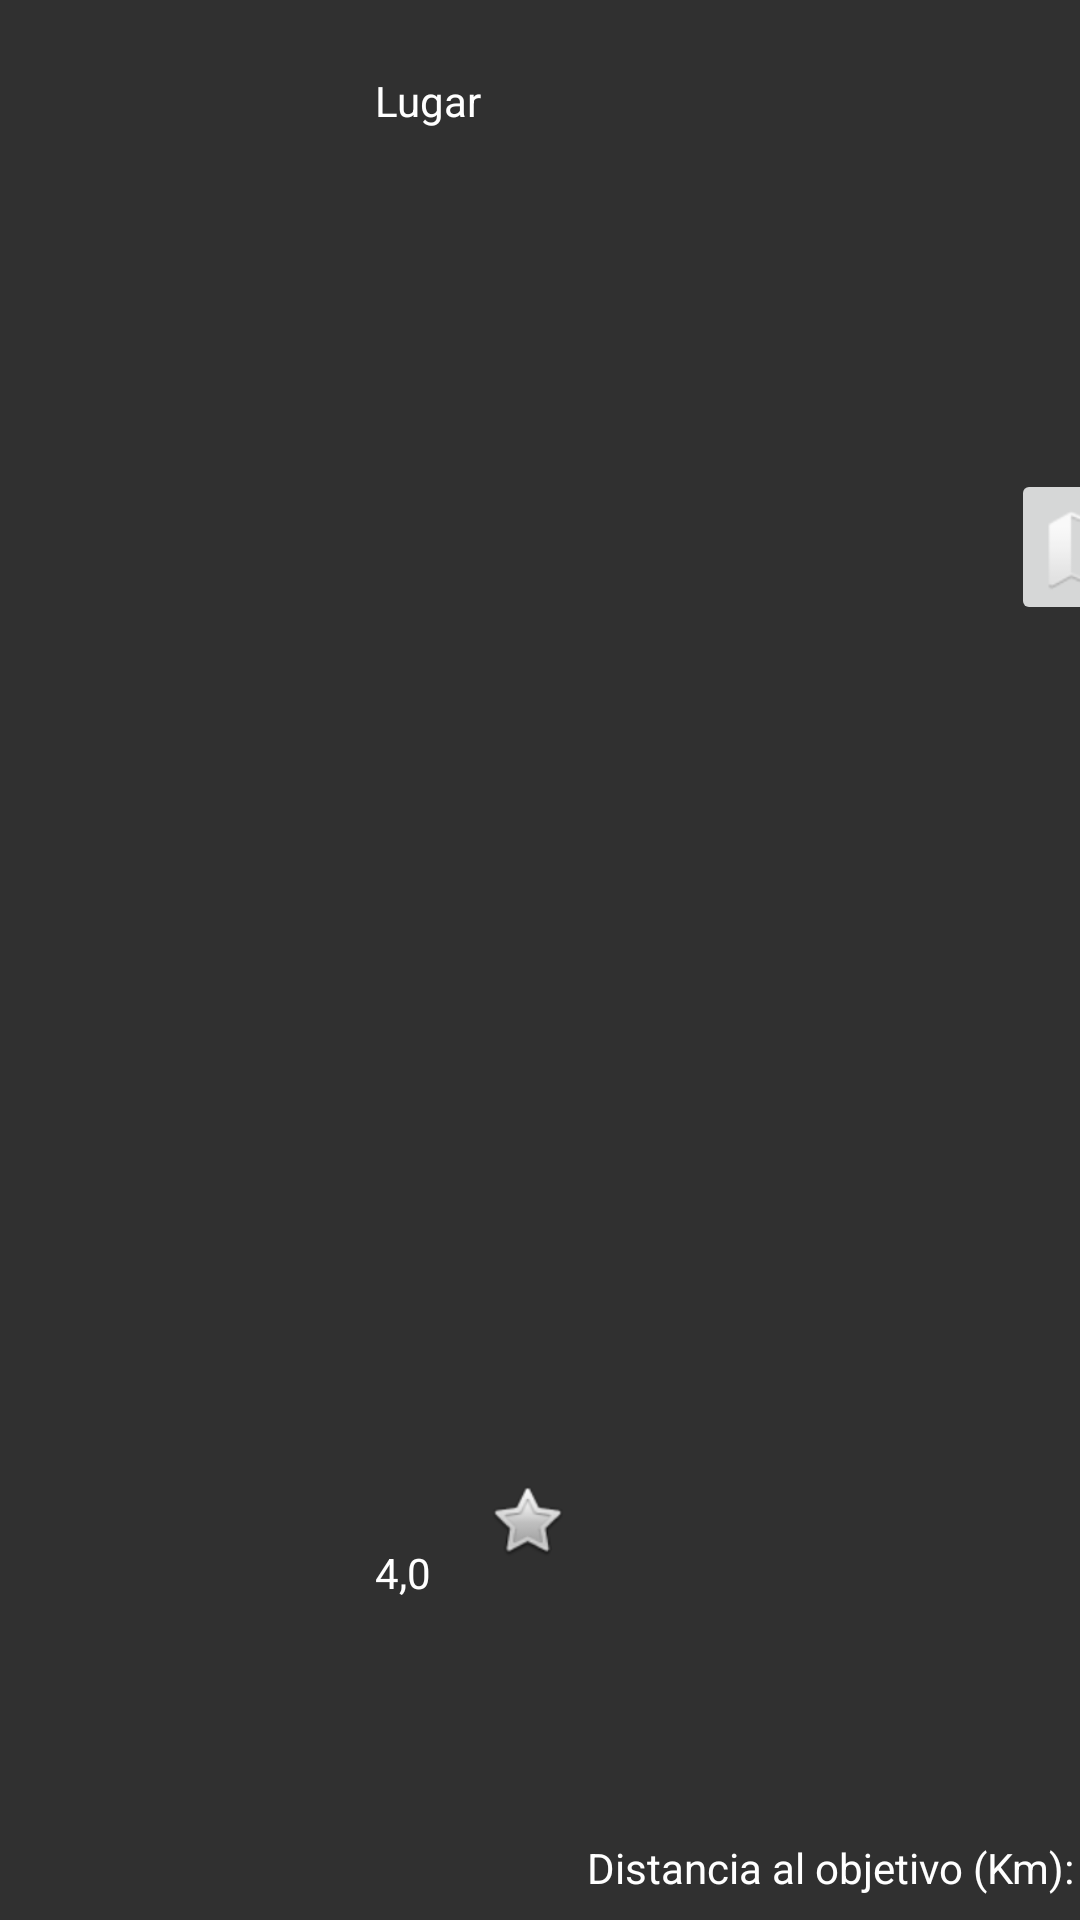

Where to tap for icons on this 1080×1920 app screen, as (x,y):
star: (528,1519)
